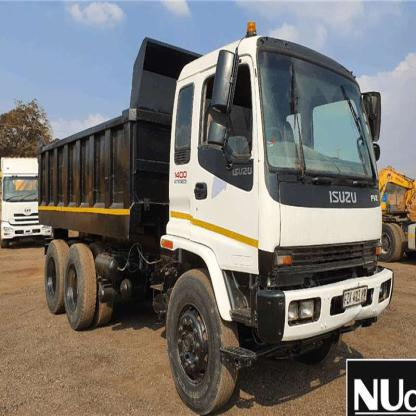dump_truck: (37, 19, 390, 415)
